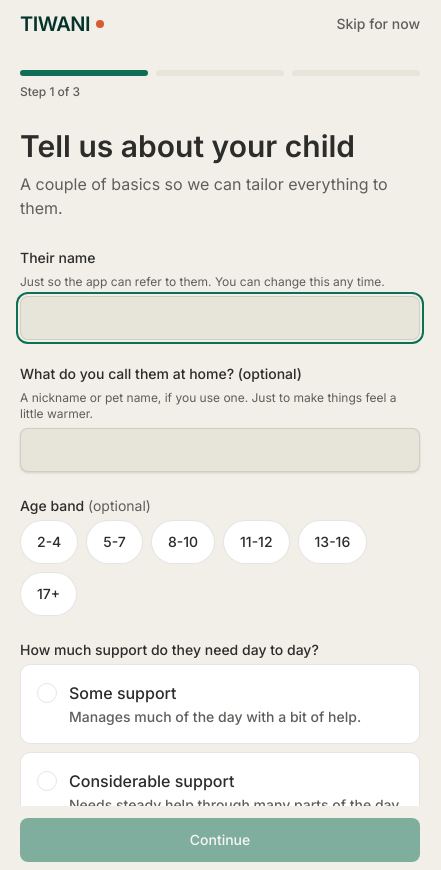
Scenario: OnboardingFlow accessibility (axe) › has no axe violations on step 2 (the challenges step)
The width and height of the screenshot is (441, 870).
Step 1. Type "Ada" into the field labelled "Their name" → (220,318), box [20,296,420,340]
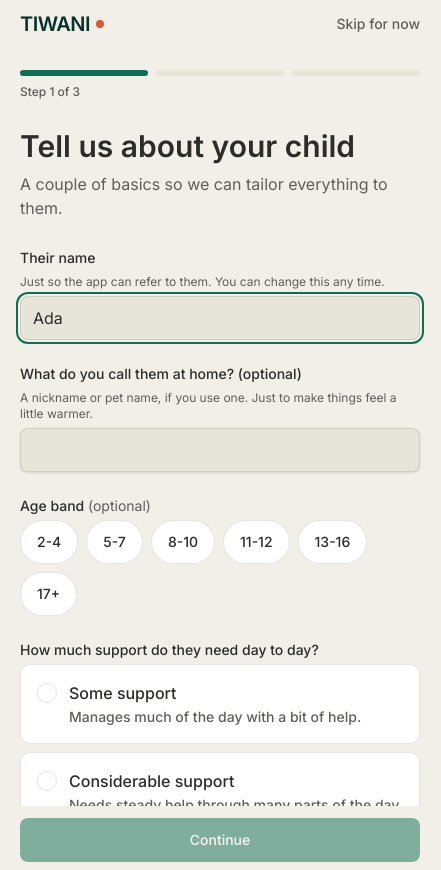
Step 2. Click the button "Some support Manages much of the day with a bit of help." → (123,693), box [20,664,420,744]
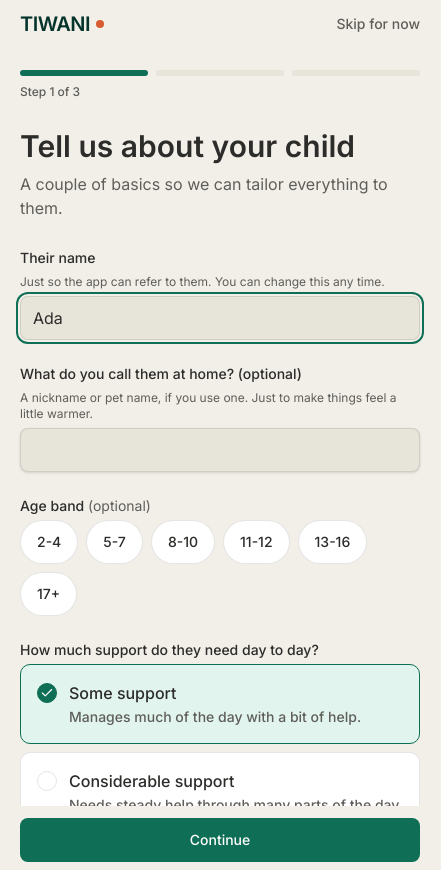
Step 3. Click the button "Continue" → (220,840), box [20,818,420,862]
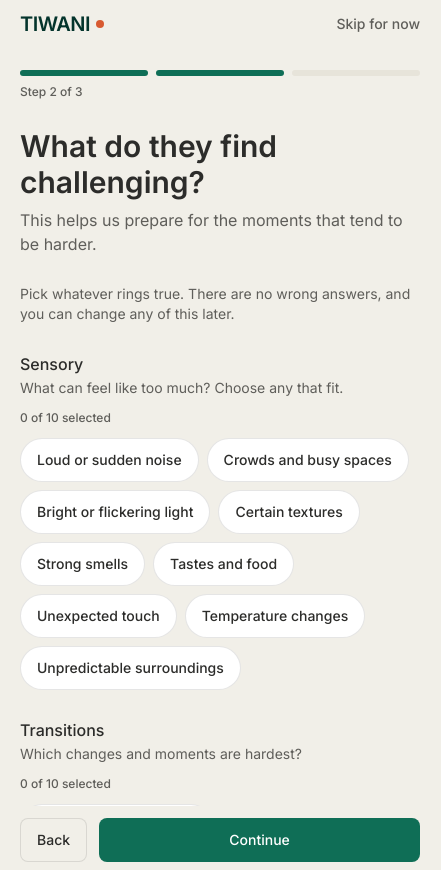
Check: the heading "What do they find challenging?" is shown, box [20,128,277,200]
